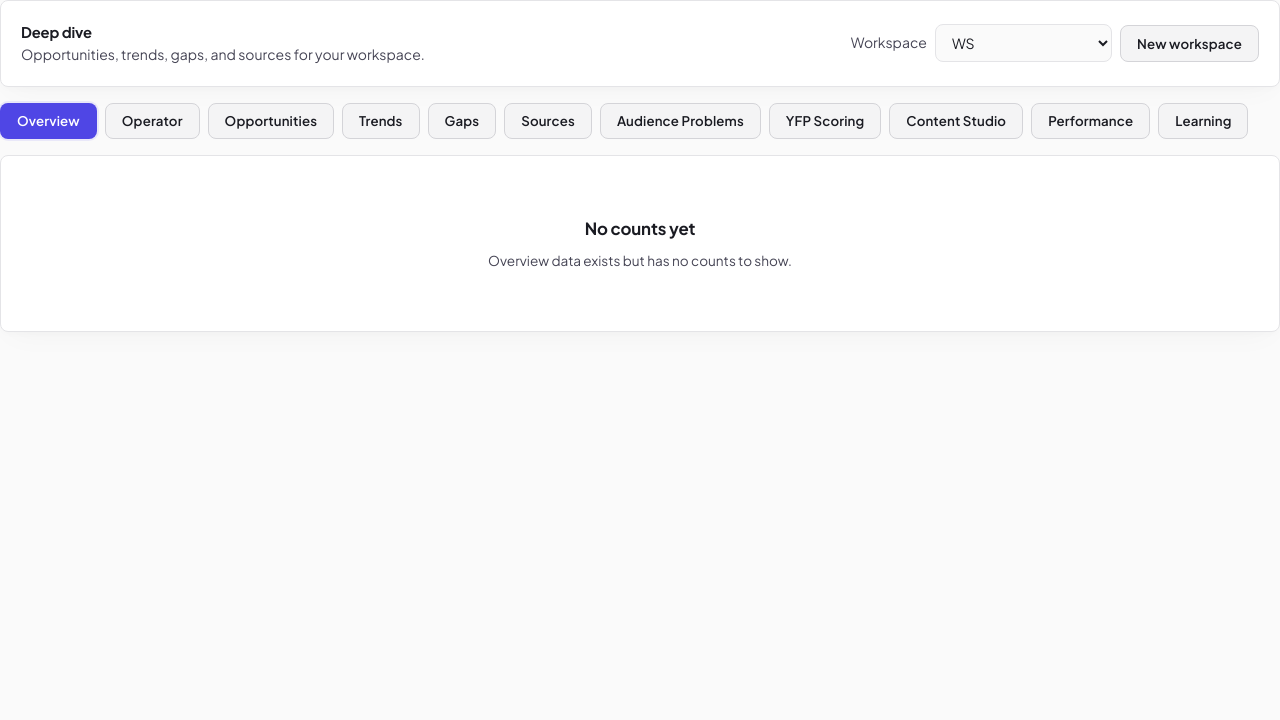
BrainPage Sources & Connections (redesigned UX) › shows an honest custom-sources empty state instead of claiming no sources exist
This screenshot has width=1280, height=720.
Click the tab "Sources" at (548, 121), box top-left (504, 102), bottom-right (592, 139)
(page scrolled)
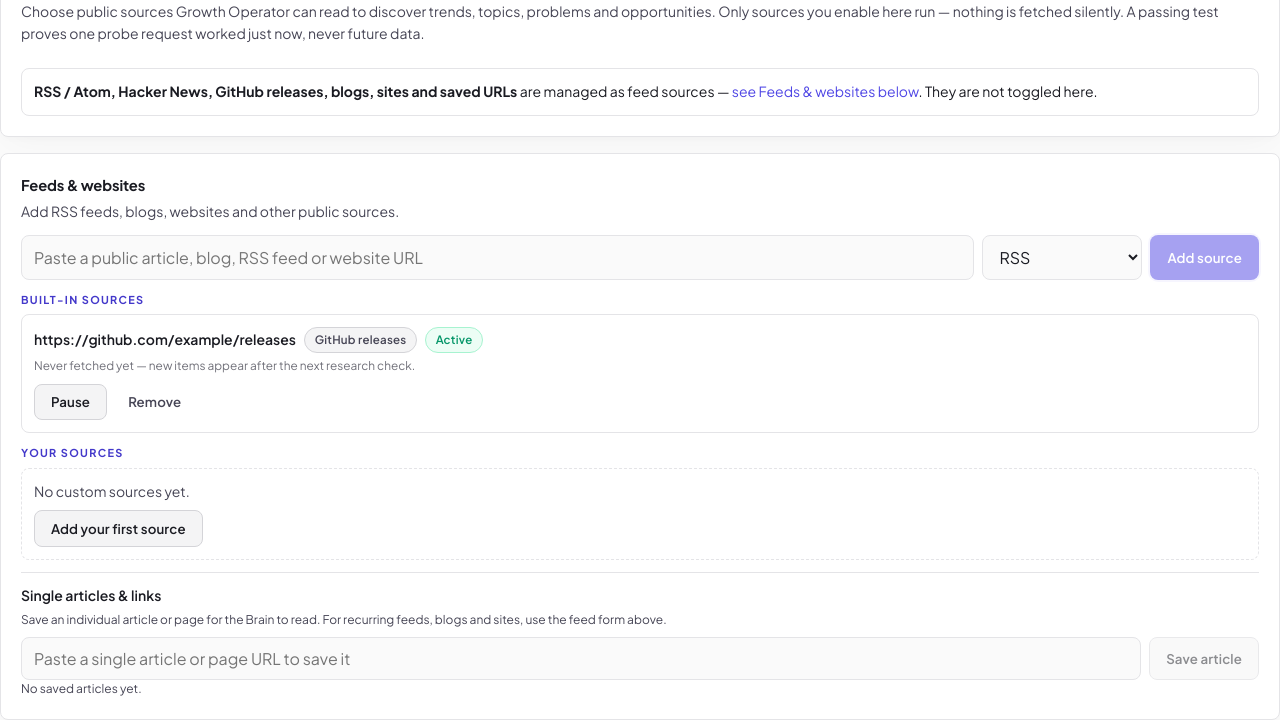
Check: the text "Built-in sources" is shown, box top-left (21, 292), bottom-right (144, 306)
Check: the text "No custom sources yet." is shown, box top-left (34, 482), bottom-right (190, 500)
Check: the button "Add your first source" is enabled, box top-left (34, 510), bottom-right (203, 547)
